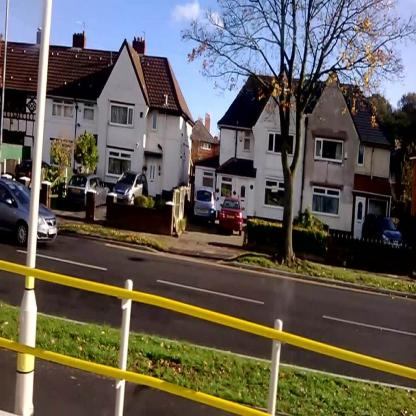Car: (1, 174, 61, 257), (358, 211, 410, 268), (106, 166, 150, 221), (66, 171, 113, 219), (14, 154, 62, 198), (362, 216, 405, 250), (193, 181, 223, 228), (219, 197, 249, 238), (113, 171, 148, 205), (15, 161, 60, 181)
